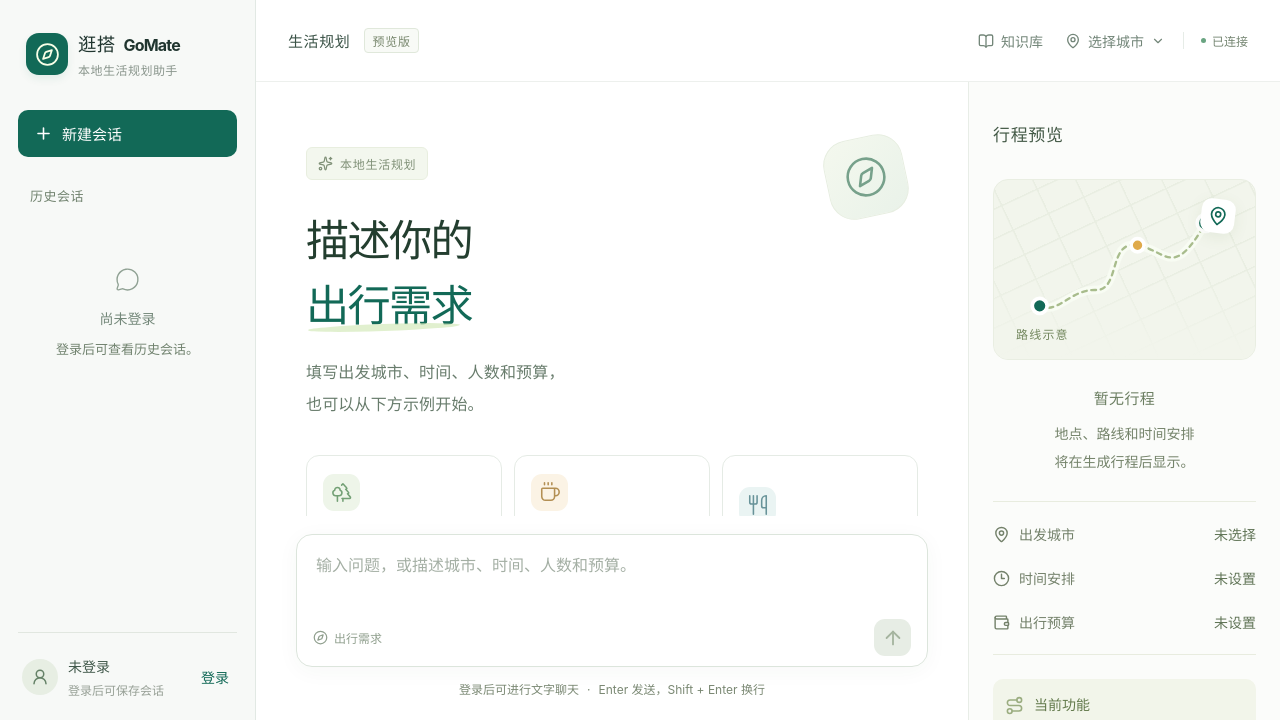
Scenario: GoMate workspace › registers, signs in, and retains a guest draft without storing the password
Step 1. Type "周末去逛逛" into the text box named "输入出行需求" → (612, 580), box [313,551,911,609]
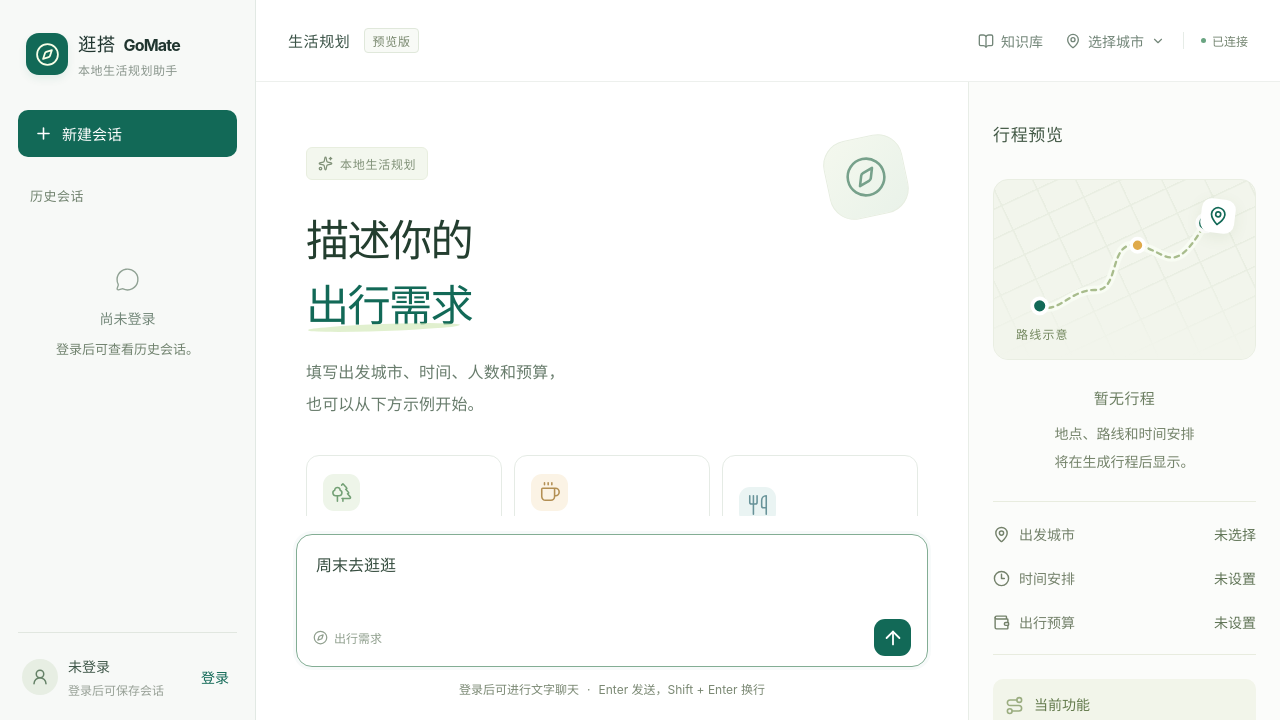
Step 2. Click the button "登录" → (215, 676), box [197,660,233,692]
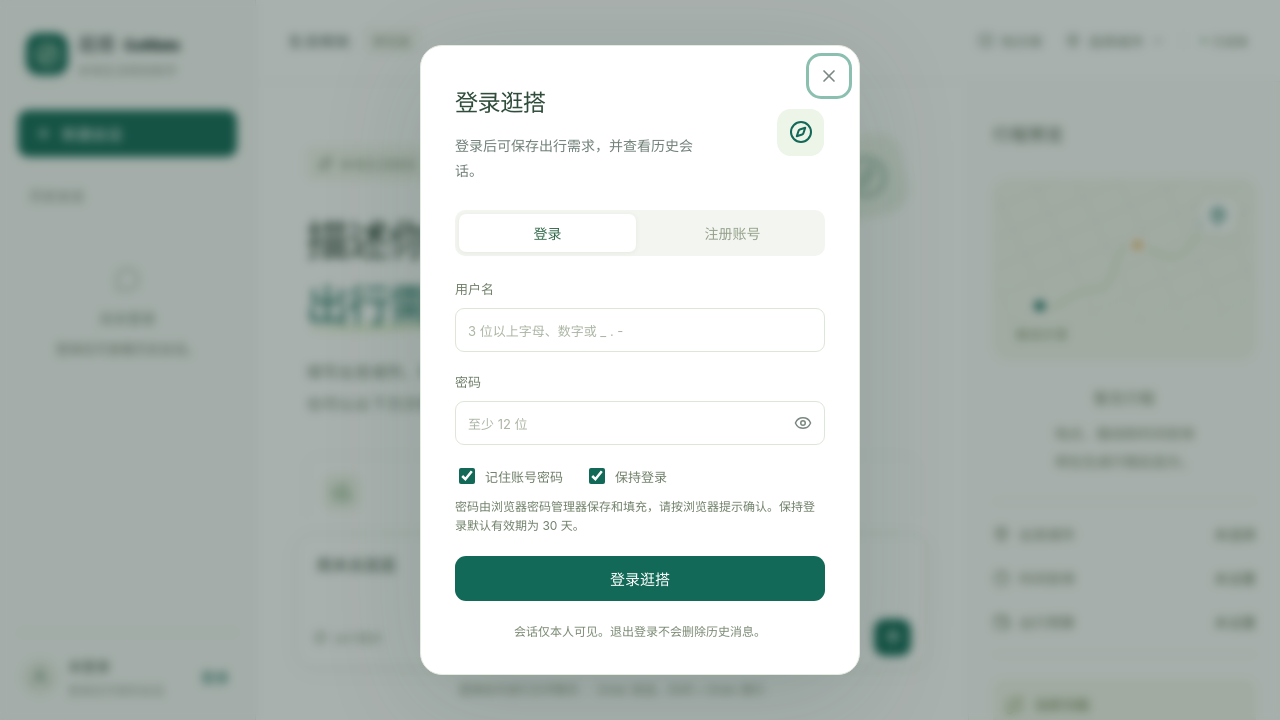
Step 3. Click the tab "注册账号" → (732, 233), box [644,214,821,252]
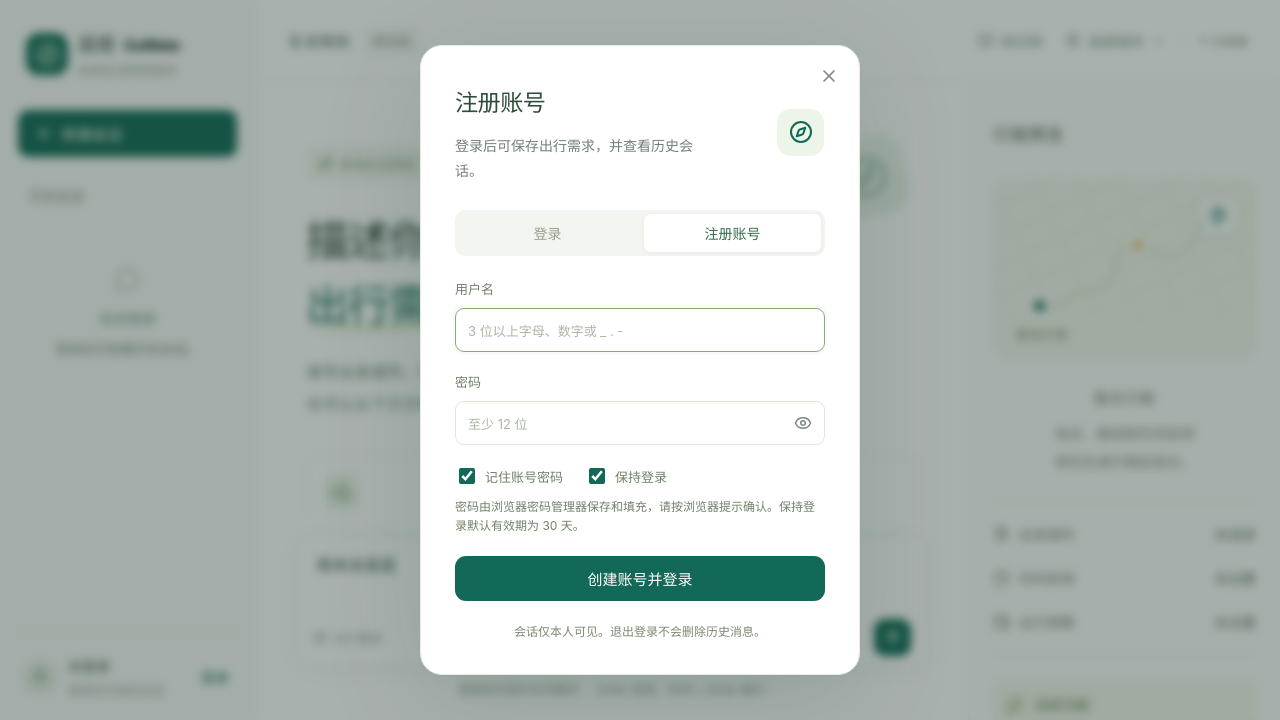
Step 4. Type "tester" into the field labelled "用户名" → (640, 330), box [455,308,825,352]
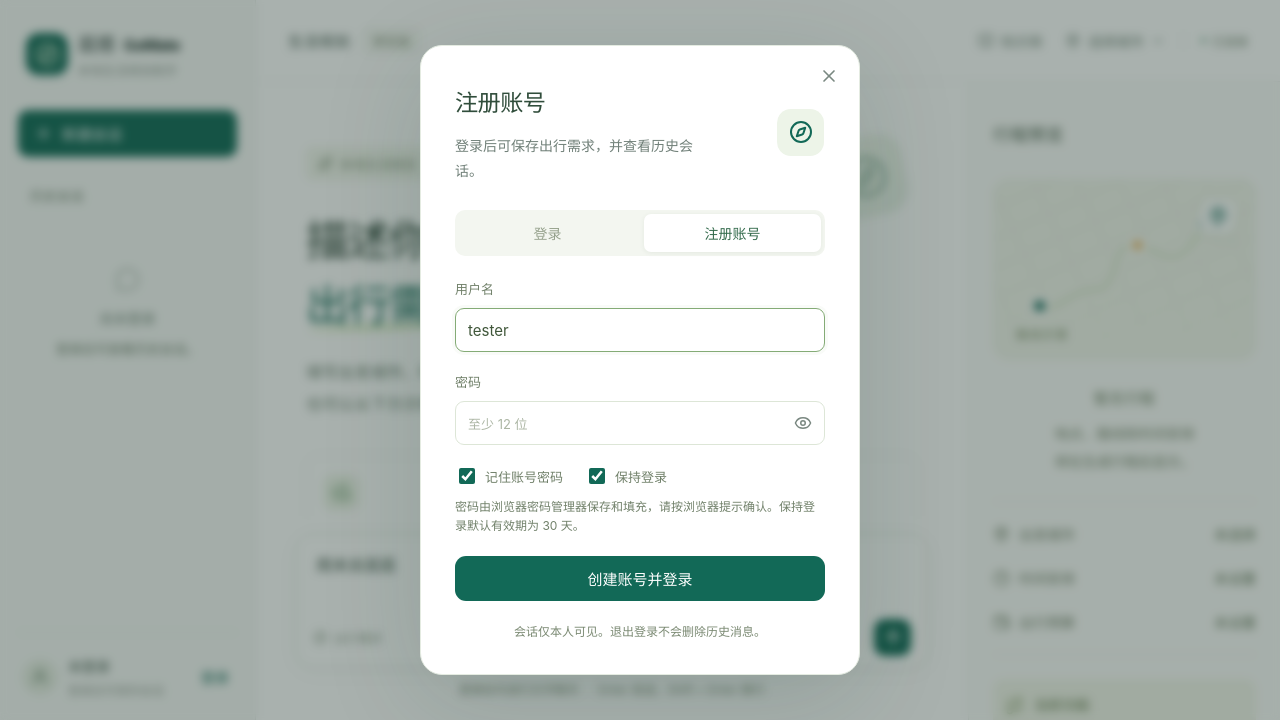
Step 5. Type "test-password-123" into the password field labelled "密码" → (640, 423), box [455,401,825,445]
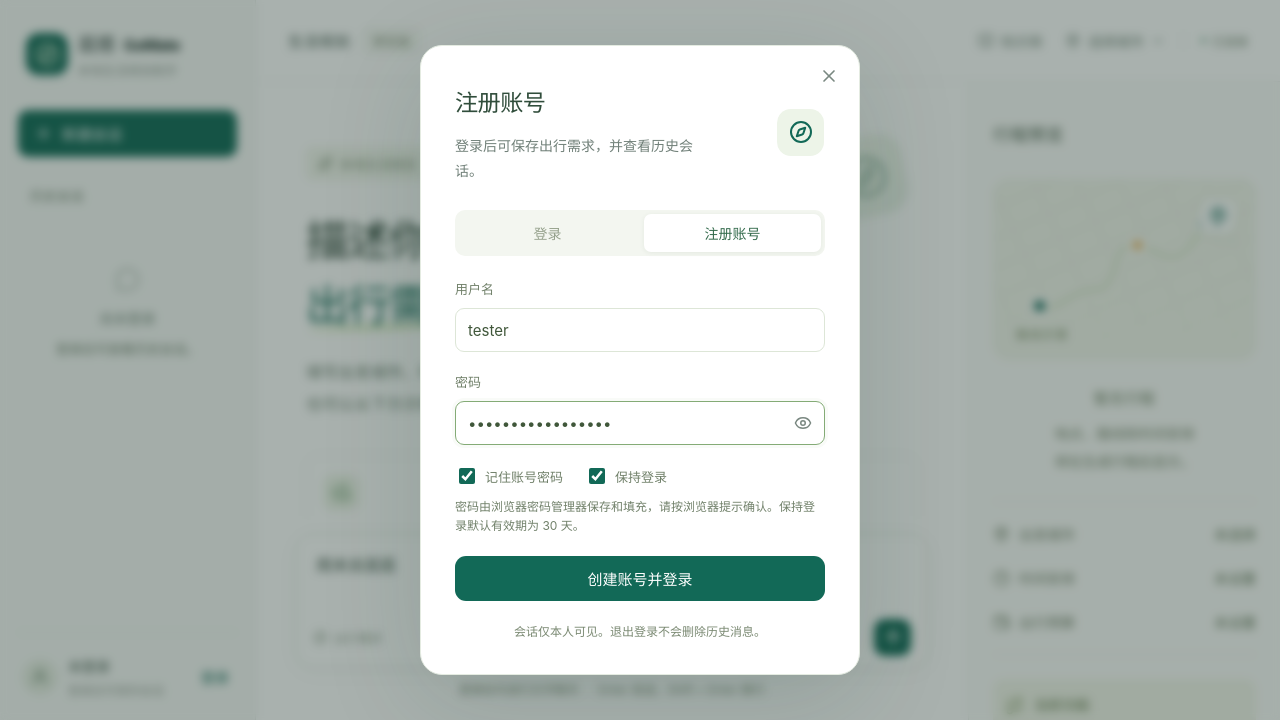
Step 6. Click the button "创建账号并登录" → (640, 579), box [455,556,825,602]
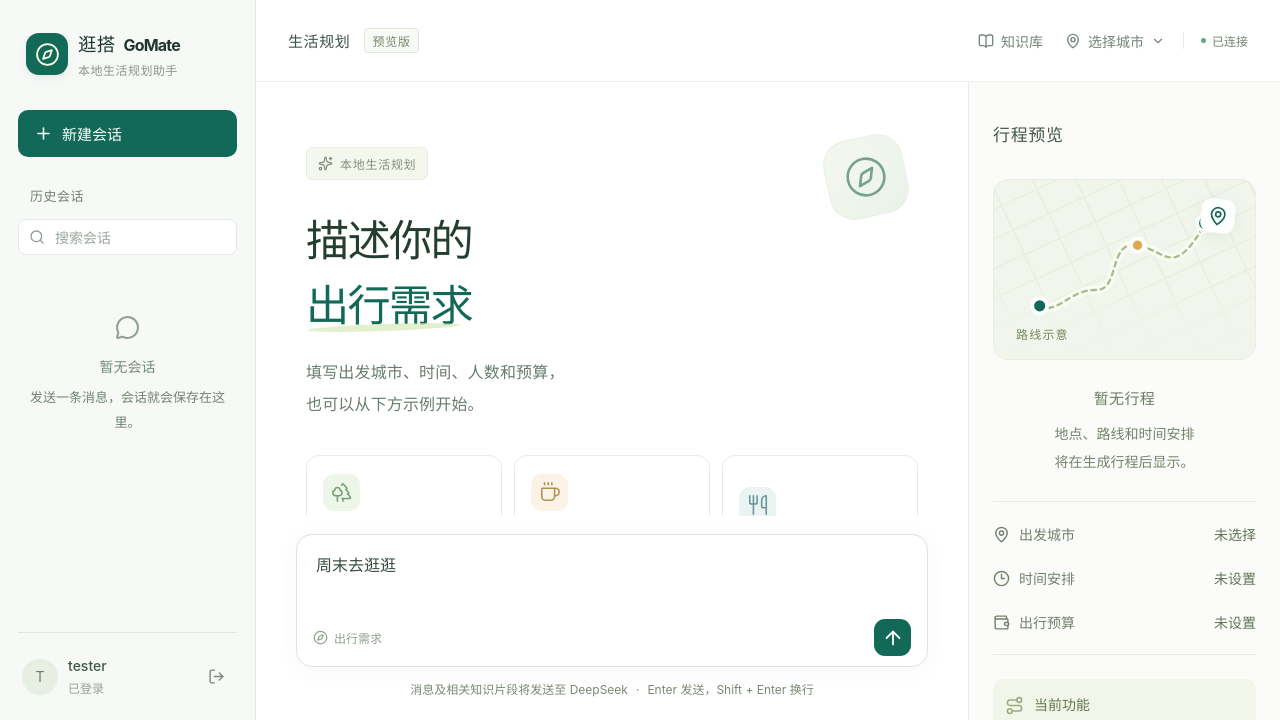
Result: the dialog is gone
Result: the text "tester" is shown at [68,657,107,674]
